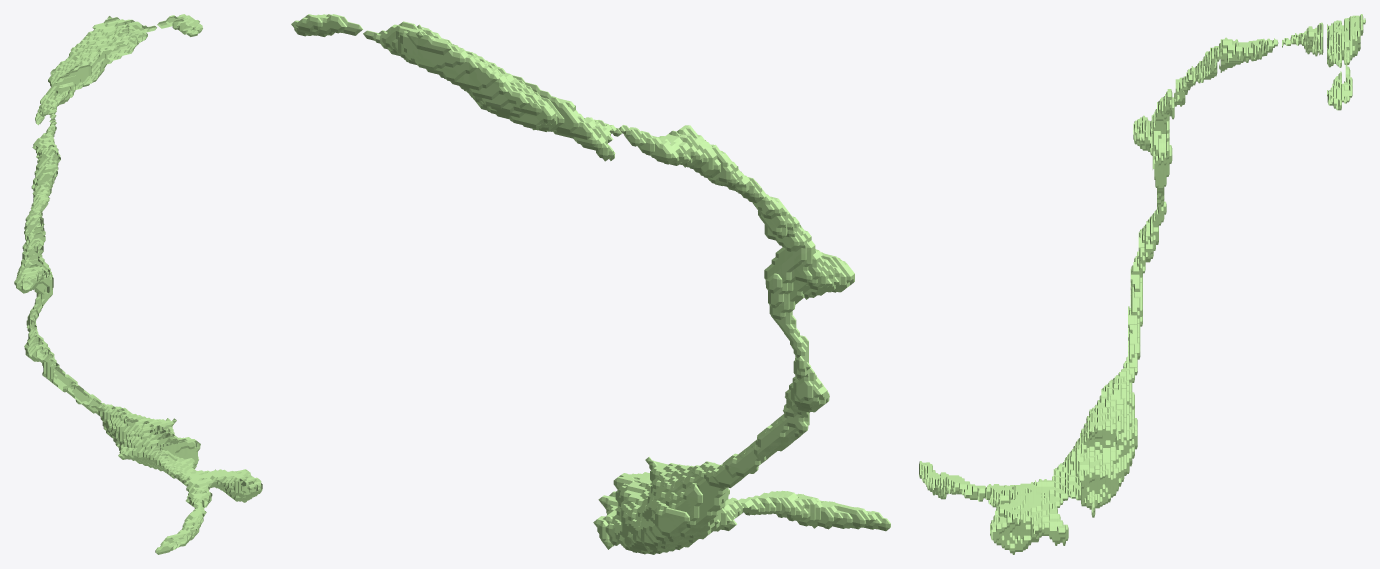
The model's file is SVV_AIZL.gltf.
3 renders of one model, left to right at view 1: azimuth 30°, elevation 25°; view 2: azimuth 150°, elevation 25°; view 3: azimuth 270°, elevation 25°, orthographic. The views are drawn at different scales.
Parts seen in each view (by area): view 1: AIZL; view 2: AIZL; view 3: AIZL.
Boxes of the visible parts, box(x1,y1,x2,y2) form: AIZL: box(14, 14, 262, 554); AIZL: box(291, 14, 890, 554); AIZL: box(919, 14, 1365, 554).
Size of the model in its own units: 58906 by 85035 by 64680.
